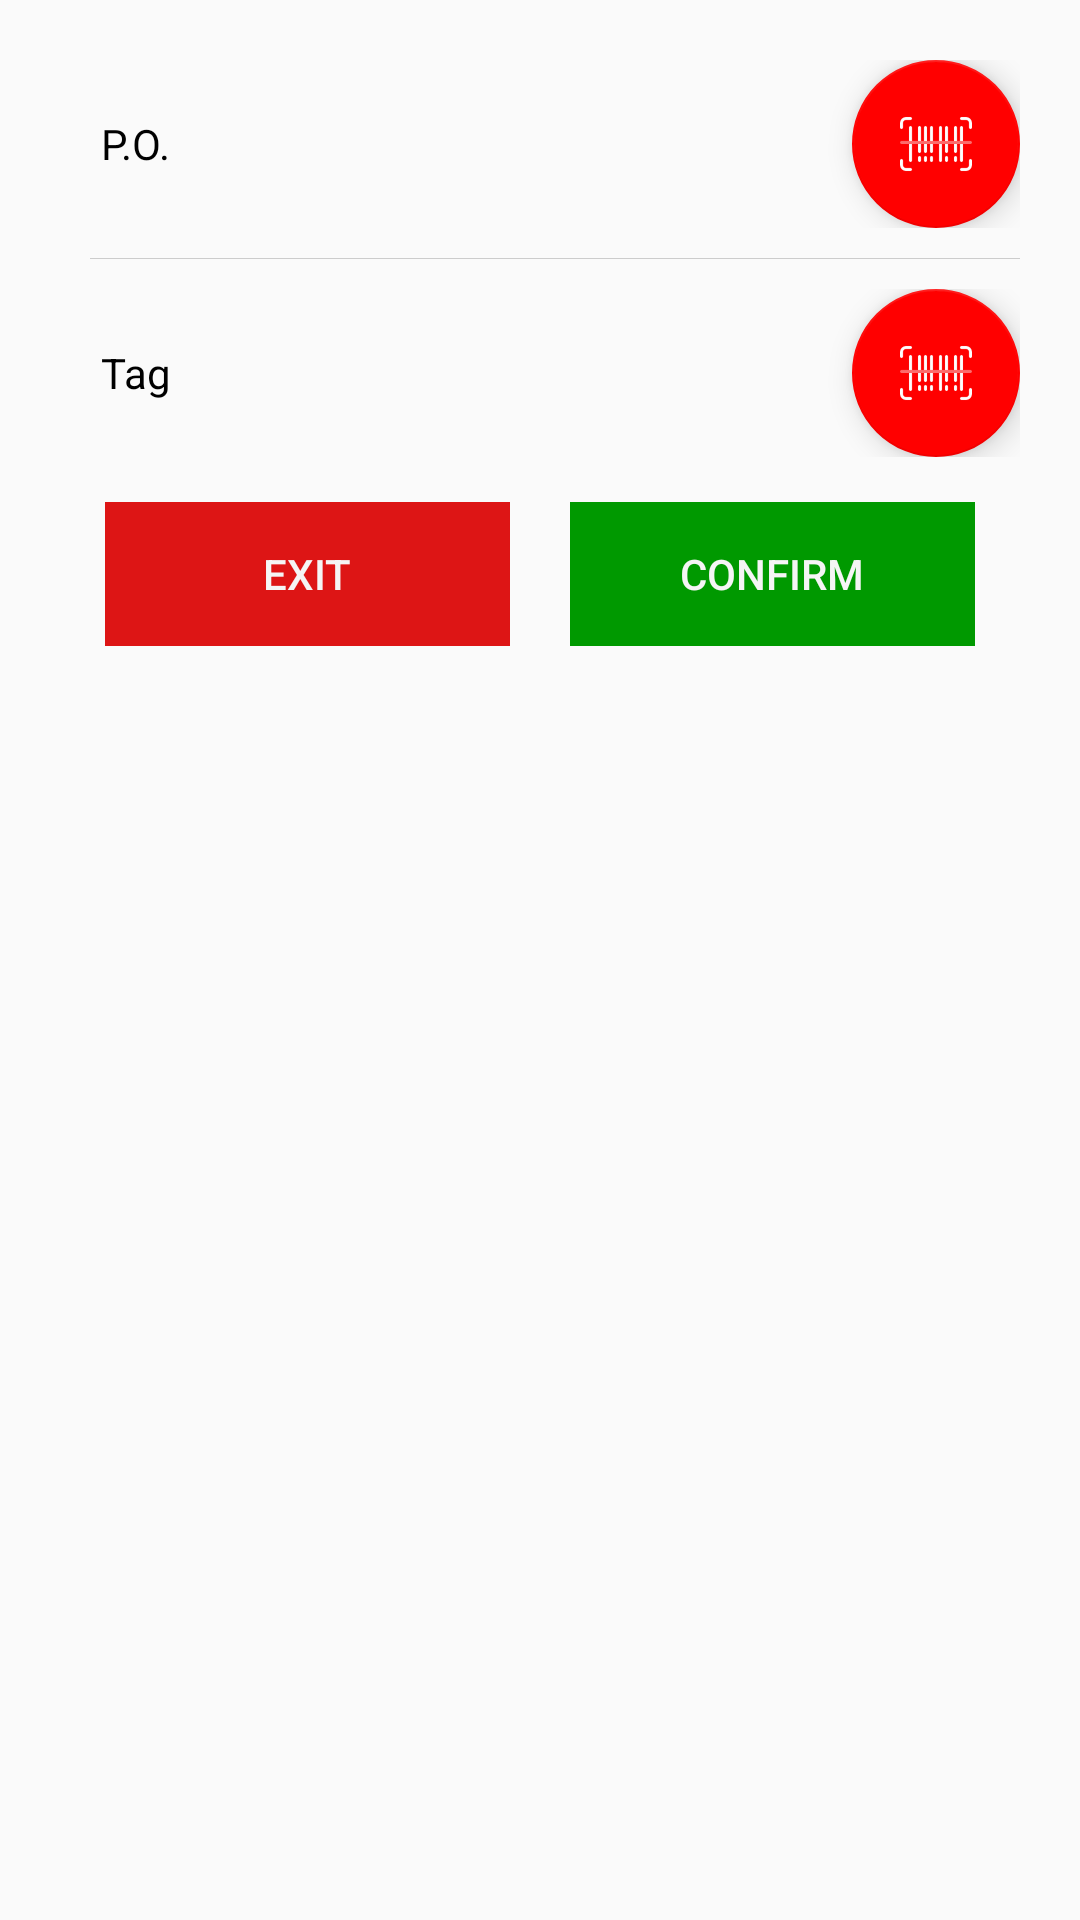

Named icons in this screenshot (1080x1920) and their bounding boxes, (x1, y1, x2, y2):
barcode: (852, 60, 1020, 228), (852, 289, 1020, 457)
